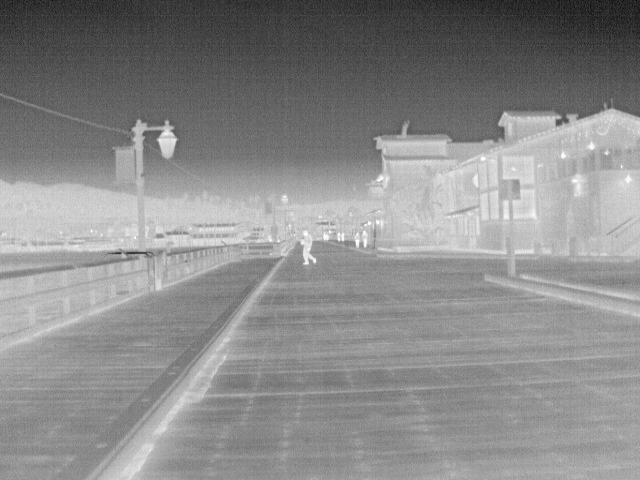person: (299, 229, 318, 267), (353, 230, 363, 248), (362, 229, 370, 249), (336, 229, 343, 242), (340, 229, 347, 242)
